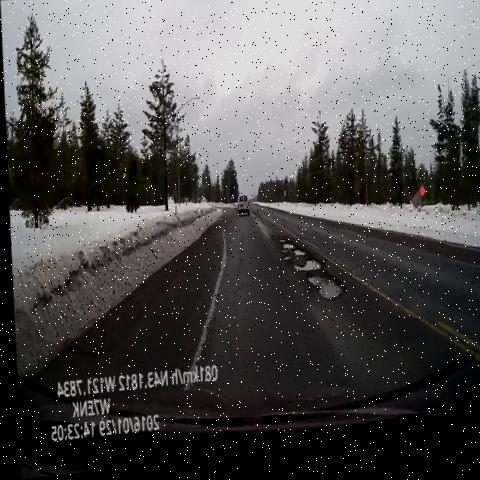pothole: (297, 271, 344, 319), (283, 258, 325, 290), (274, 237, 303, 272)
